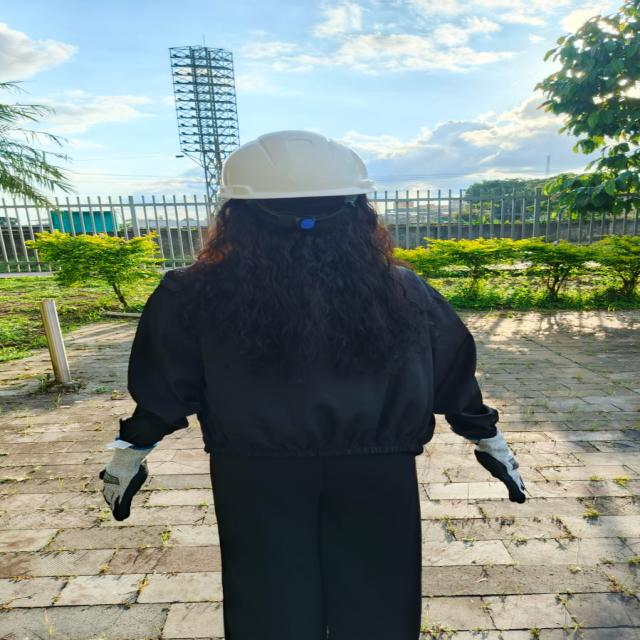gloves: (100, 440, 157, 521), (474, 431, 527, 504)
helmet: (219, 130, 374, 199)
